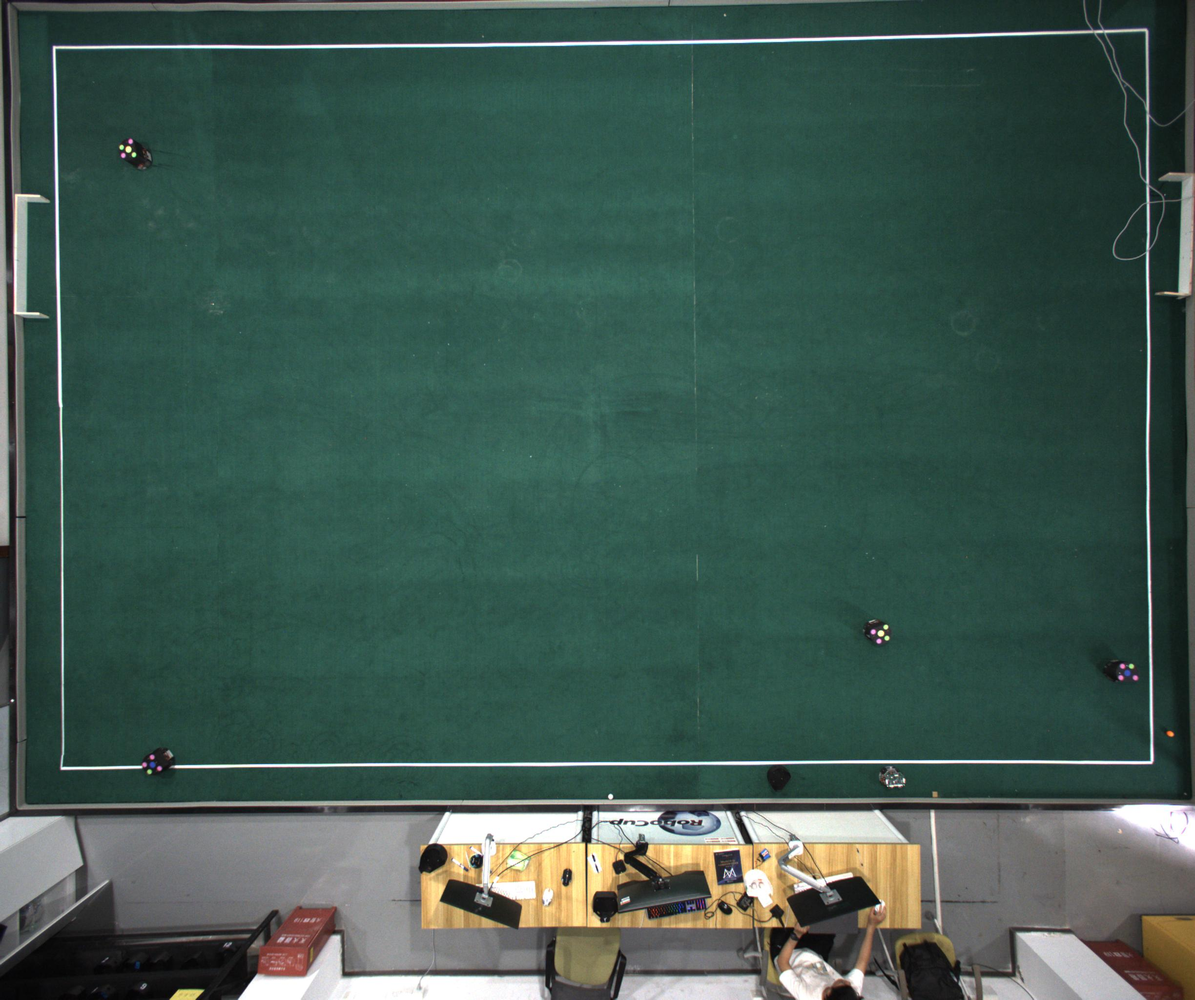ball: (1166, 730, 1176, 738)
blue_bot: (1115, 662, 1140, 683), (143, 753, 163, 776)
yellow_bot: (870, 623, 892, 645), (119, 137, 139, 161)
